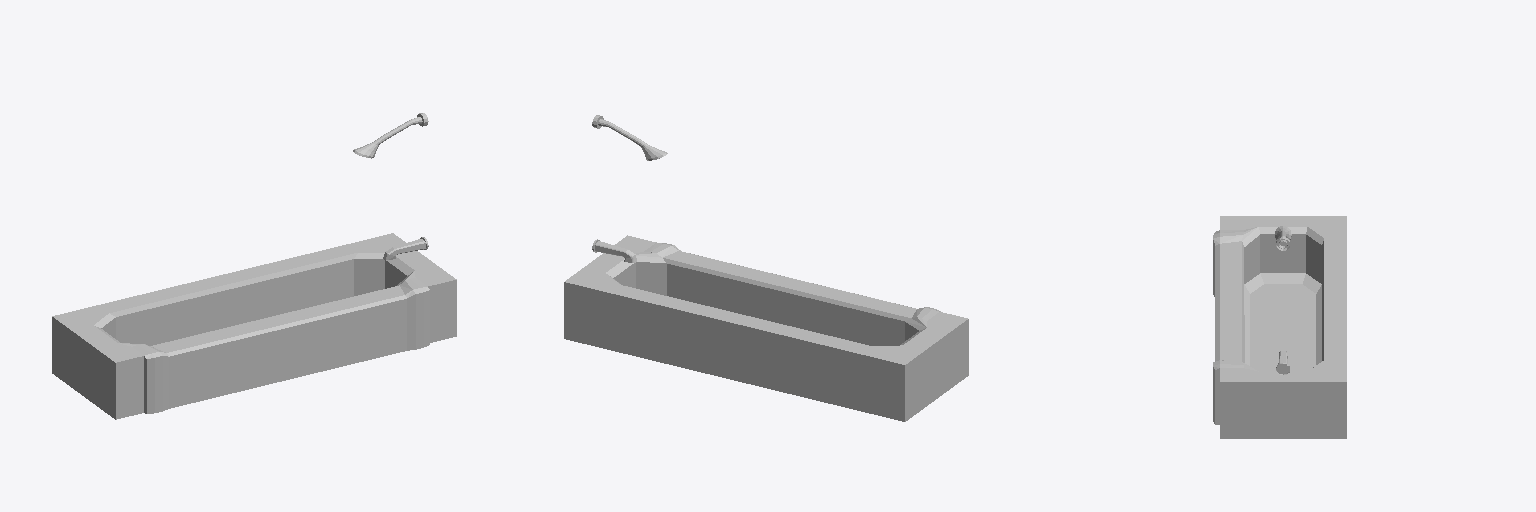
Rendered from Hotel.unity_1.obj.
The picture shows the model from 3 angles: view 1: azimuth 30°, elevation 25°; view 2: azimuth 150°, elevation 25°; view 3: azimuth 270°, elevation 25°; orthographic projection.
Visible parts, largest first — view 1: Bathtub; view 2: Bathtub; view 3: Bathtub.
Part boxes in pixels (x1,y1,x2,y2): Bathtub: (52, 113, 456, 419); Bathtub: (564, 115, 968, 421); Bathtub: (1213, 216, 1346, 438).
Size of the model in its own units: 4.51 by 2.53 by 1.53.